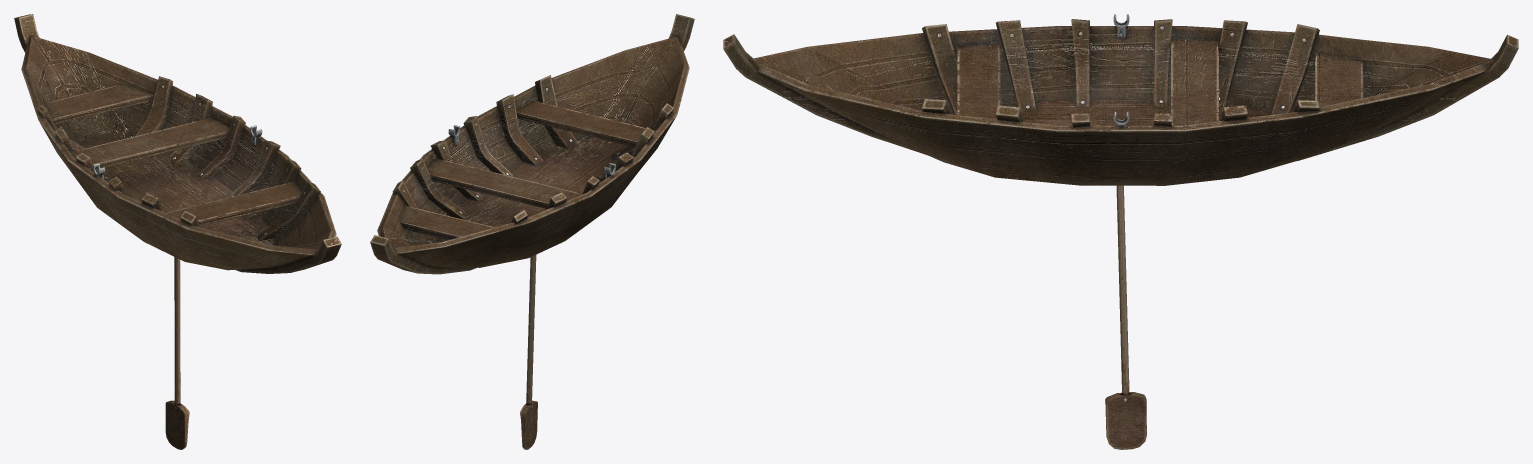
File: thuyen.glb
3 renders of one model, left to right at view 1: azimuth 30°, elevation 25°; view 2: azimuth 150°, elevation 25°; view 3: azimuth 270°, elevation 25°, orthographic. The views are drawn at different scales.
Parts seen in each view (by area): view 1: Thuyen, MaiCheo; view 2: Thuyen, MaiCheo; view 3: Thuyen, MaiCheo.
Boxes of the visible parts, box(x1,y1,x2,y2) form: Thuyen: box(14, 14, 341, 273); MaiCheo: box(165, 257, 189, 449); Thuyen: box(370, 14, 694, 274); MaiCheo: box(520, 255, 537, 449); Thuyen: box(723, 14, 1518, 185); MaiCheo: box(1105, 185, 1146, 449).
Bounding box in the file's own units: 1.35 × 2.44 × 4.3.
Materials: 1 (1 with a texture image).
